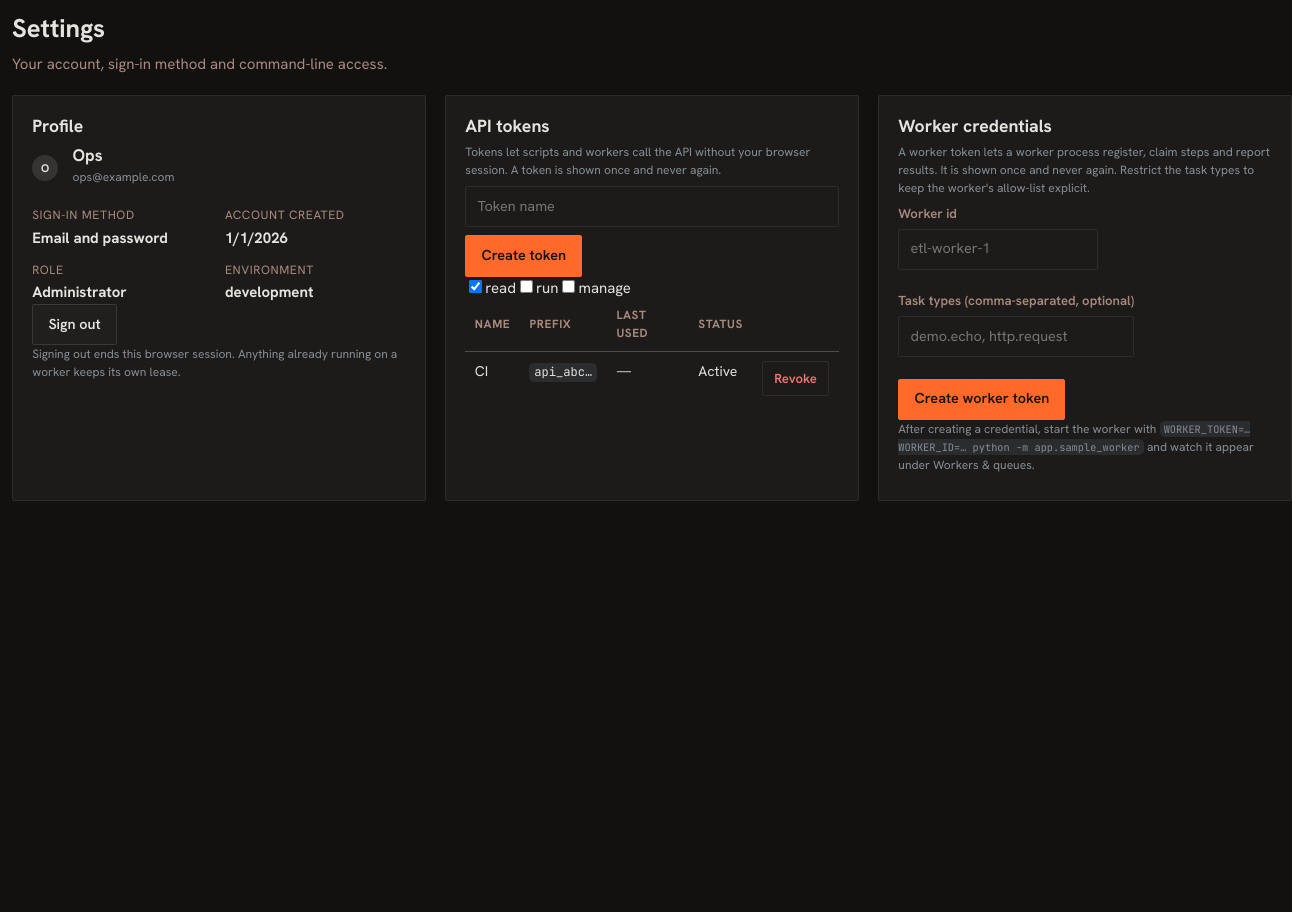
SettingsPage › creates a worker token with the configured id and task types
Expected: the text "CI" is shown, [465, 351, 520, 405]
Step 1. Type "etl-1" into the field labelled "Worker id" → (998,249), box [898, 229, 1098, 270]
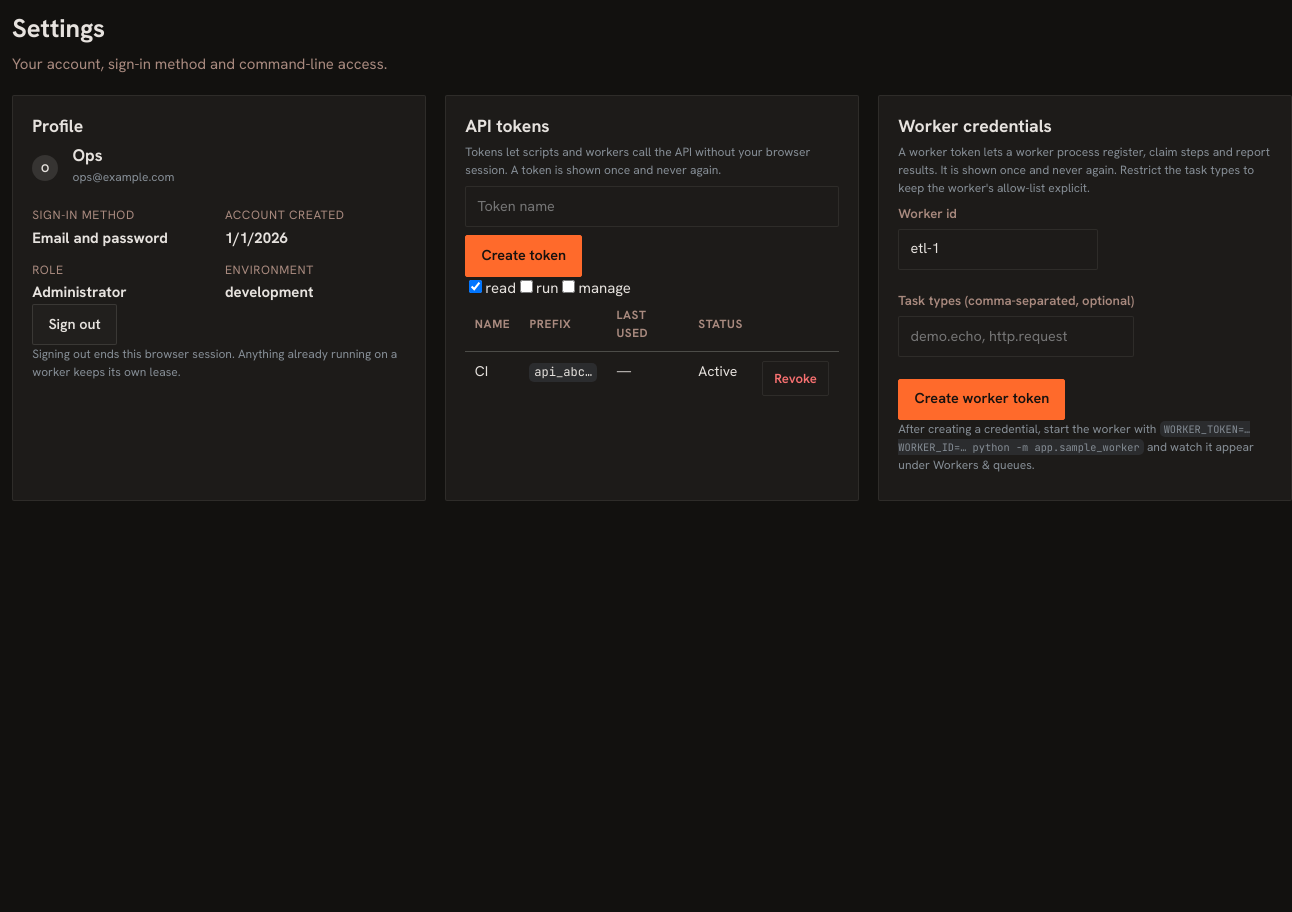
Step 2. Type "demo.echo" into the field named "Worker task types" → (1016,336), box [898, 316, 1134, 357]
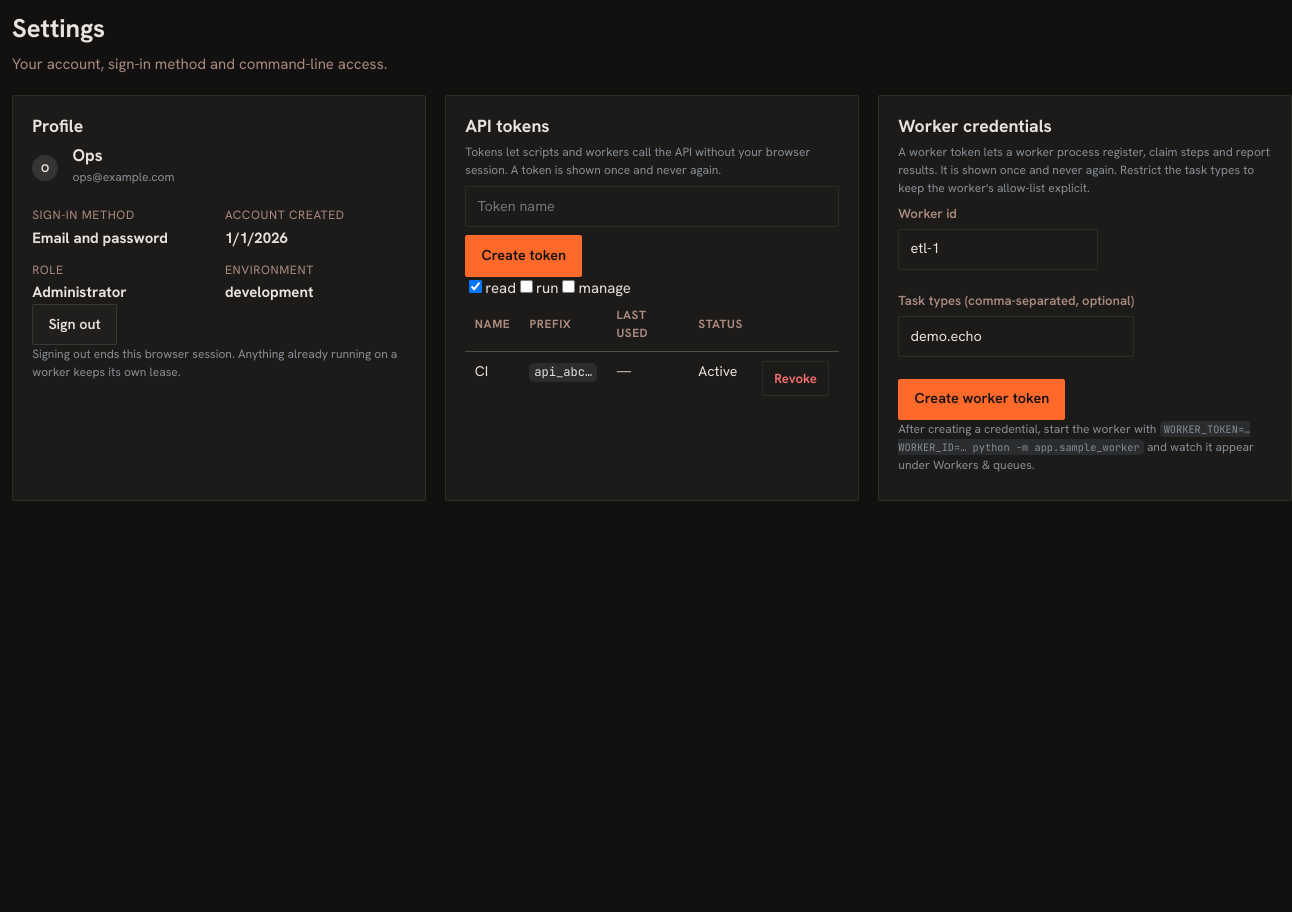
Step 3. Click the button "Create worker token" → (982,399), box [898, 379, 1066, 420]
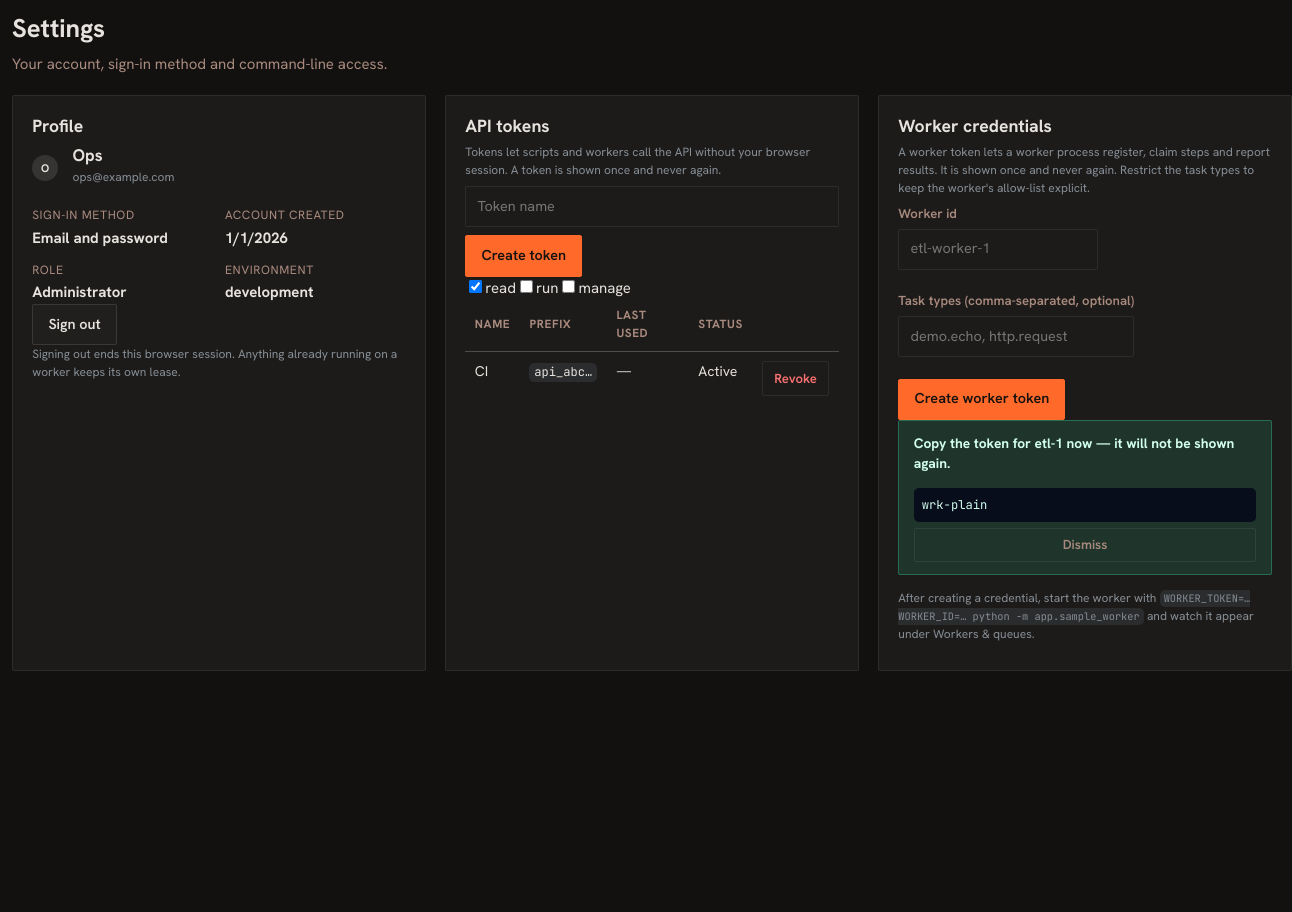
Expected: the text "Copy the token for etl-1 now — it will not be shown again." is shown, [914, 433, 1256, 474]
Expected: the text "wrk-plain" is shown, [914, 488, 1256, 522]
